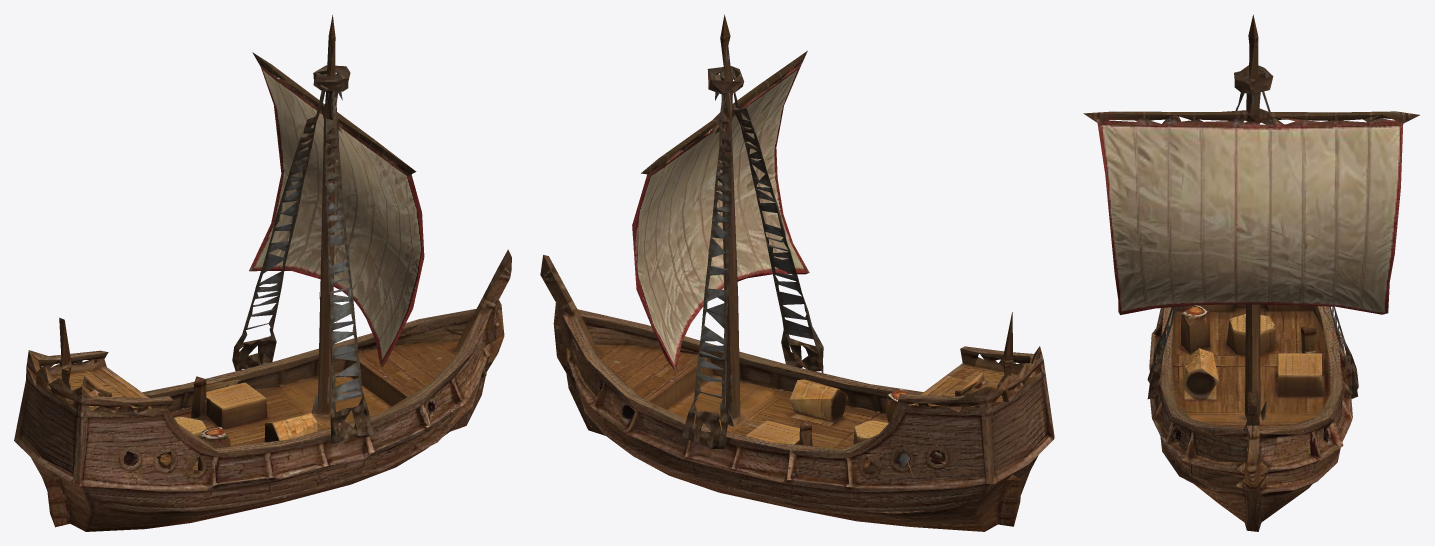
Rendered from cog.glb.
3 renders of one model, left to right at view 1: azimuth 30°, elevation 25°; view 2: azimuth 150°, elevation 25°; view 3: azimuth 270°, elevation 25°, orthographic. The views are drawn at different scales.
Parts seen in each view (by area): view 1: cog_export; view 2: cog_export; view 3: cog_export.
Part boxes in pixels (left/top/right/bottom): cog_export: left=14, top=15, right=511, bottom=531; cog_export: left=540, top=14, right=1054, bottom=531; cog_export: left=1083, top=14, right=1419, bottom=531.
Size of the model in its own units: 27 by 23.79 by 16.09.
Materials: 1 (1 with a texture image).
